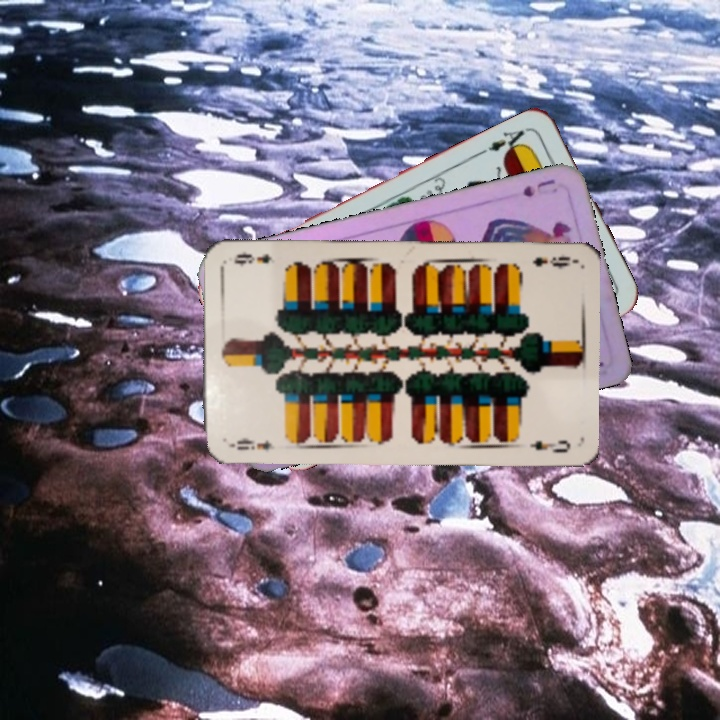E9: (225, 434, 277, 453), (529, 252, 576, 270)
EA: (477, 123, 533, 158)
SU: (518, 175, 558, 200)
